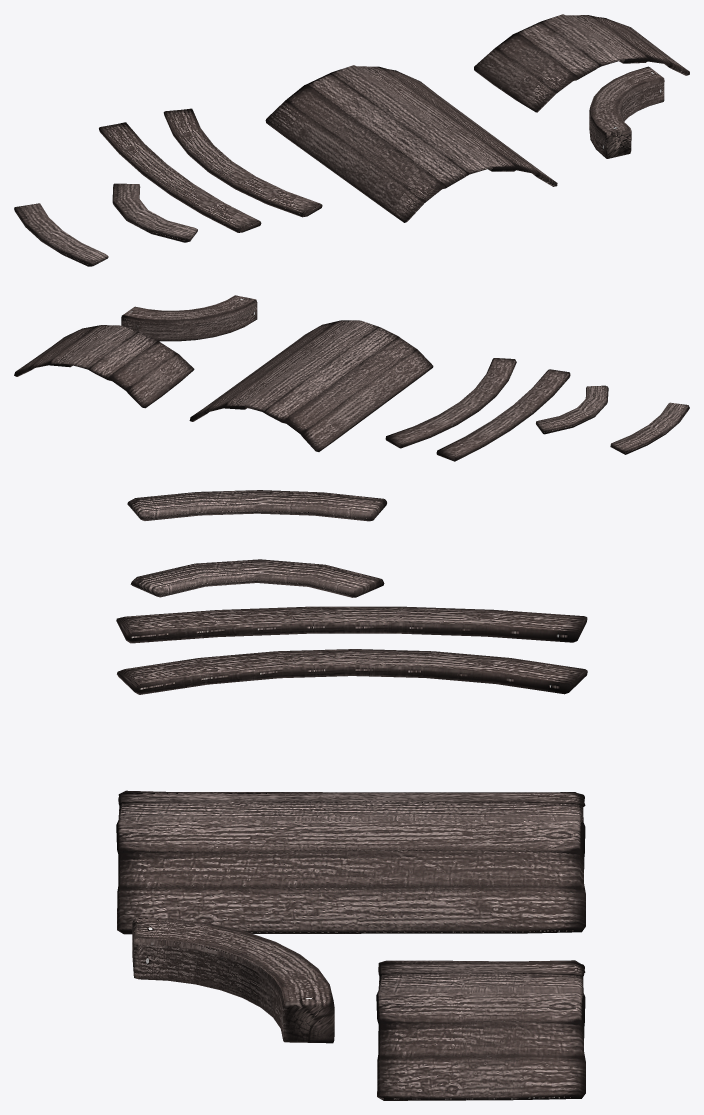
File: Planks Curve.FBX
The picture shows the model from 3 angles, top to bottom: view 1: azimuth 30°, elevation 25°; view 2: azimuth 150°, elevation 25°; view 3: azimuth 270°, elevation 25°; orthographic projection. The views are drawn at different scales.
Visible parts, largest first — view 1: Plank Surface Long Bend Optimized, Plank Surface Short Bend Optimized, Plank Thick Curve Optimized, Plank Long Curve Subtle Optimized, Plank Long Curve Optimized, Plank Medium Curve Subtle Optimized, Plank Medium Curve Optimized; view 2: Plank Surface Long Bend Optimized, Plank Surface Short Bend Optimized, Plank Thick Curve Optimized, Plank Long Curve Optimized, Plank Long Curve Subtle Optimized, Plank Medium Curve Subtle Optimized, Plank Medium Curve Optimized; view 3: Plank Surface Long Bend Optimized, Plank Surface Short Bend Optimized, Plank Thick Curve Optimized, Plank Long Curve Subtle Optimized, Plank Long Curve Optimized, Plank Medium Curve Subtle Optimized, Plank Medium Curve Optimized.
Part boxes in pixels (bbox=[...]): Plank Surface Long Bend Optimized: bbox=[265, 65, 557, 222]; Plank Surface Short Bend Optimized: bbox=[474, 14, 689, 112]; Plank Thick Curve Optimized: bbox=[589, 66, 664, 158]; Plank Long Curve Subtle Optimized: bbox=[99, 122, 261, 232]; Plank Long Curve Optimized: bbox=[163, 108, 322, 217]; Plank Medium Curve Subtle Optimized: bbox=[14, 203, 108, 266]; Plank Medium Curve Optimized: bbox=[112, 183, 197, 242]; Plank Surface Long Bend Optimized: bbox=[189, 320, 433, 451]; Plank Surface Short Bend Optimized: bbox=[14, 325, 194, 408]; Plank Thick Curve Optimized: bbox=[121, 295, 257, 341]; Plank Long Curve Optimized: bbox=[385, 358, 516, 448]; Plank Long Curve Subtle Optimized: bbox=[436, 369, 570, 461]; Plank Medium Curve Subtle Optimized: bbox=[610, 402, 689, 454]; Plank Medium Curve Optimized: bbox=[536, 385, 608, 434]; Plank Surface Long Bend Optimized: bbox=[116, 790, 585, 934]; Plank Surface Short Bend Optimized: bbox=[376, 960, 585, 1100]; Plank Thick Curve Optimized: bbox=[132, 917, 334, 1043]; Plank Long Curve Subtle Optimized: bbox=[116, 606, 587, 643]; Plank Long Curve Optimized: bbox=[117, 649, 587, 694]; Plank Medium Curve Subtle Optimized: bbox=[127, 490, 386, 521]; Plank Medium Curve Optimized: bbox=[130, 559, 384, 597].
Size of the model in its own units: 684 by 244 by 35.93.
